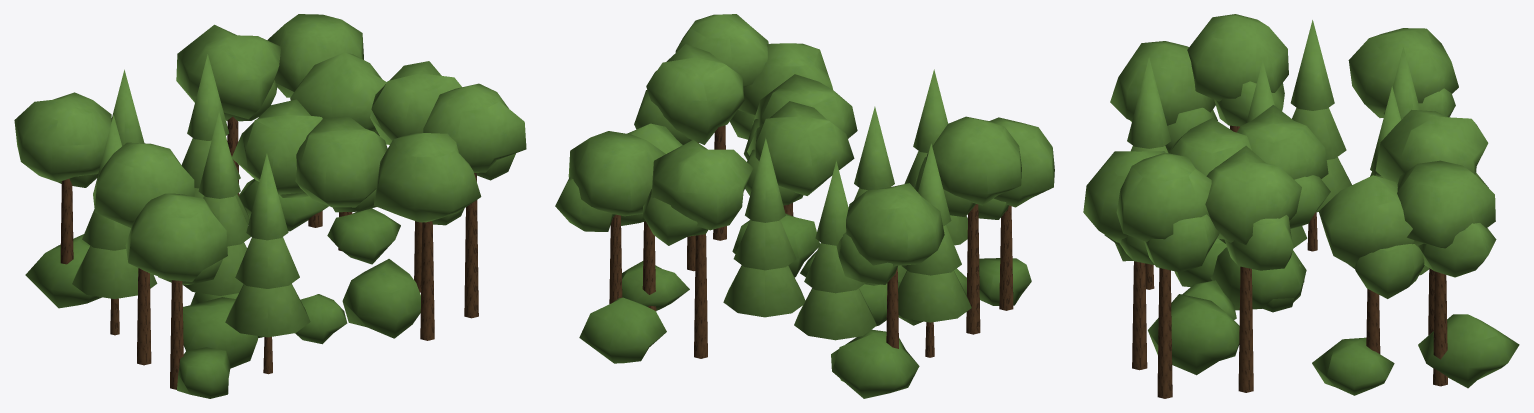
File: forest.patch.glb
3 views of the same model, side by side, from view 1: azimuth 30°, elevation 25°; view 2: azimuth 150°, elevation 25°; view 3: azimuth 270°, elevation 25° (orthographic). The views are drawn at different scales.
Visible parts, largest first — view 1: crowns, scenery.forest.patch.mesh; view 2: crowns, scenery.forest.patch.mesh; view 3: crowns, scenery.forest.patch.mesh.
Boxes of the visible parts, x1,y1,x2,y2 form: crowns: [14, 14, 526, 337]; scenery.forest.patch.mesh: [25, 116, 478, 398]; crowns: [555, 14, 1054, 340]; scenery.forest.patch.mesh: [579, 125, 1031, 398]; crowns: [1083, 14, 1496, 298]; scenery.forest.patch.mesh: [1115, 125, 1519, 398].
Bounding box in the file's own units: 12.97 × 7.68 × 12.02.
Materials: 2 (2 with a texture image).
